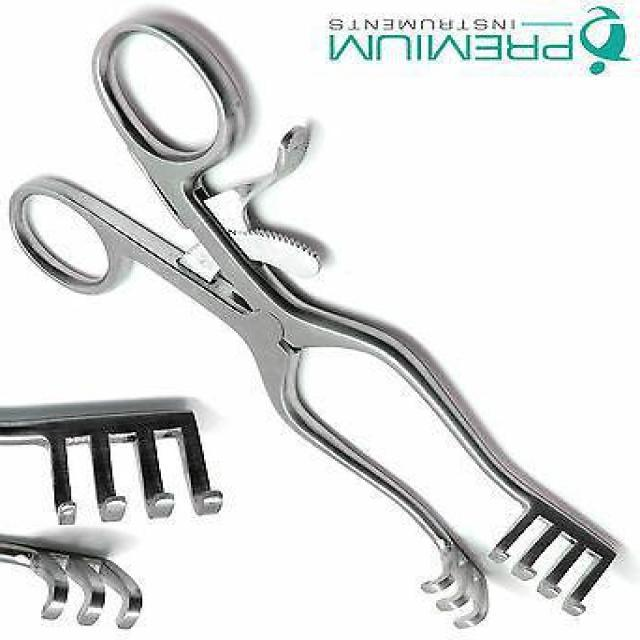Weitlaner: (6, 13, 624, 632), (0, 405, 227, 634)
